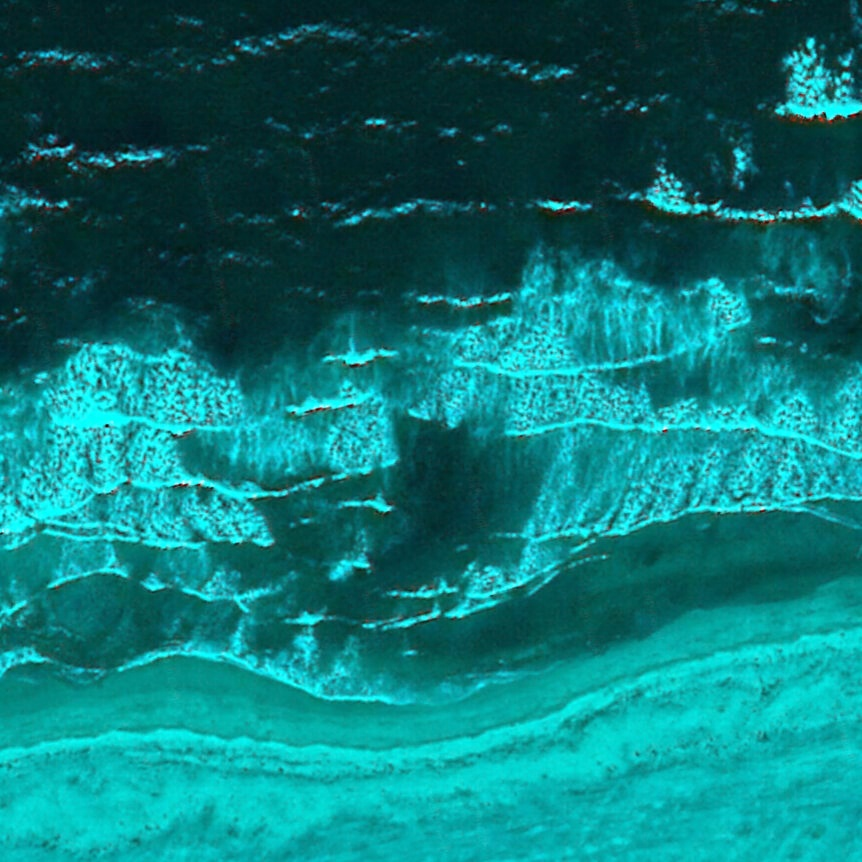rip_current: (245, 315, 581, 653)
